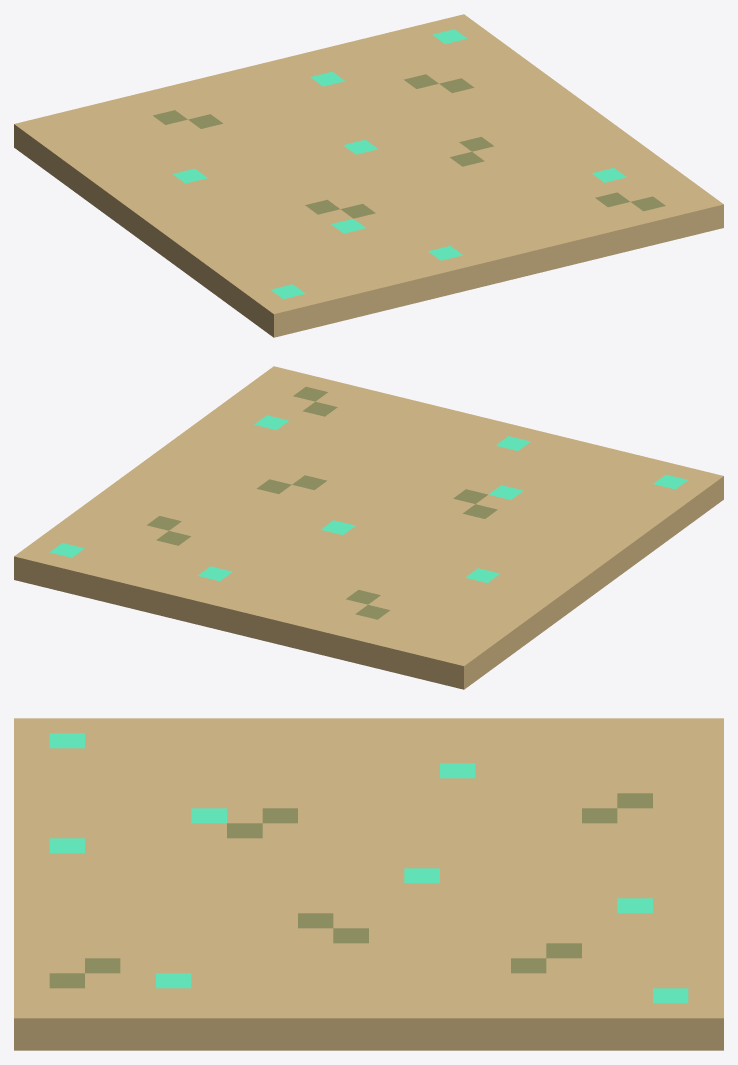
File: floor_01.obj
The picture shows the model from 3 angles, top to bottom: view 1: azimuth 30°, elevation 25°; view 2: azimuth 150°, elevation 25°; view 3: azimuth 270°, elevation 25°; orthographic projection. The views are drawn at different scales.
Bounding box in the file's own units: 2 × 0.1 × 2.
